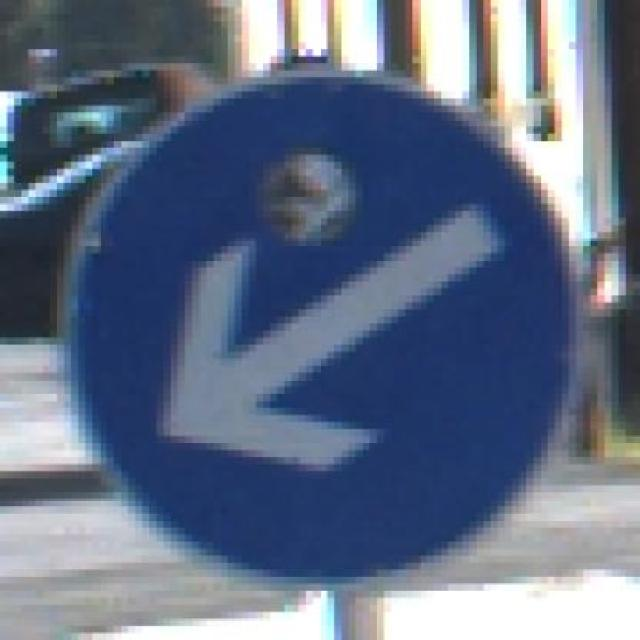Keep-Left: (49, 56, 591, 612)
